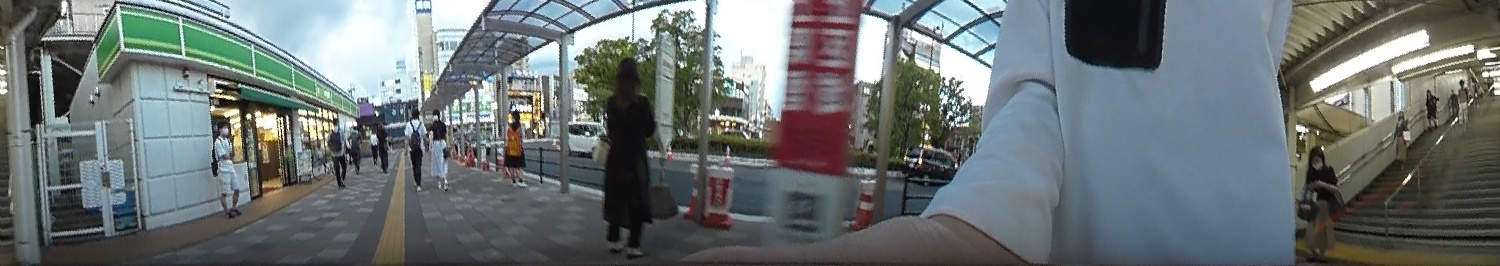difficult_person: (1300, 141, 1344, 257), (1388, 111, 1413, 176), (346, 124, 364, 176), (1454, 74, 1471, 129), (376, 121, 390, 174), (1421, 89, 1438, 125), (366, 127, 380, 163), (1447, 87, 1459, 118)
person: (591, 50, 666, 251), (1300, 141, 1344, 257), (204, 114, 247, 220), (425, 103, 455, 191), (402, 106, 433, 190), (503, 105, 532, 180), (325, 112, 351, 189)
